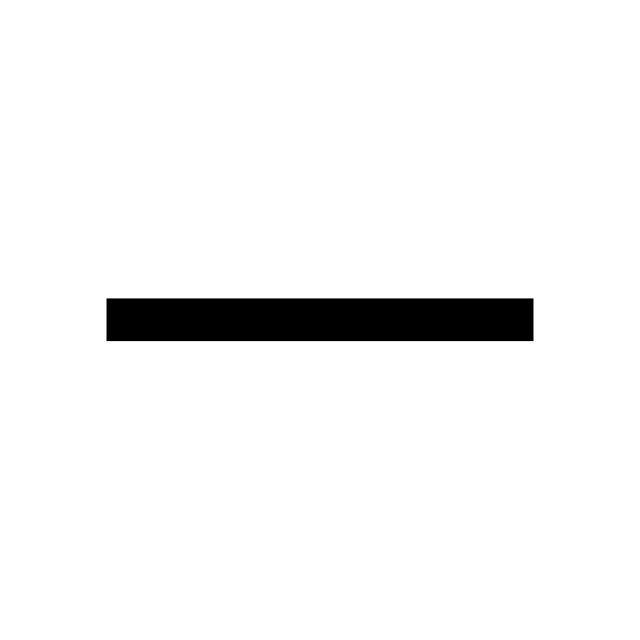line: (107, 298, 533, 341)
